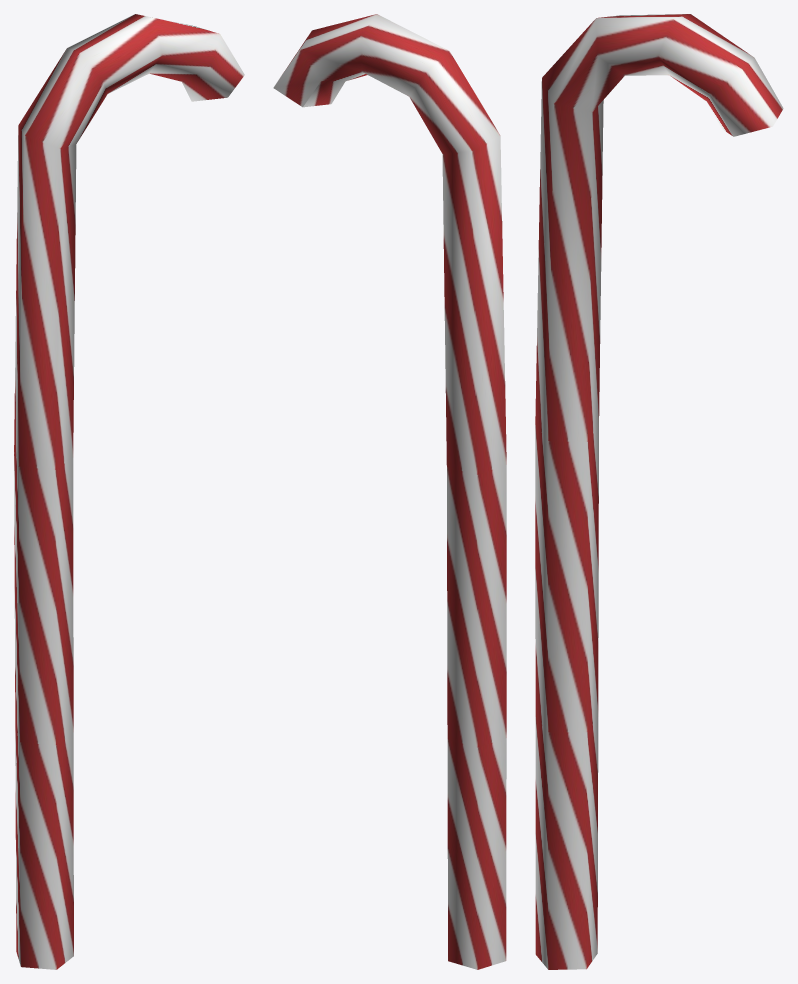
File: pir_m_prp_hol_candycane_winter09.fbx
3 renders of one model, left to right at view 1: azimuth 30°, elevation 25°; view 2: azimuth 150°, elevation 25°; view 3: azimuth 330°, elevation 25°, orthographic. The views are drawn at different scales.
Visible parts, largest first — view 1: pasted__handle1; view 2: pasted__handle1; view 3: pasted__handle1.
Boxes of the visible parts, x1,y1,x2,y2 form: pasted__handle1: (14,14,244,969); pasted__handle1: (273,14,506,969); pasted__handle1: (535,14,783,969).
Size of the model in its own units: 55.25 by 216 by 13.99.
Materials: 1 (1 with a texture image).
